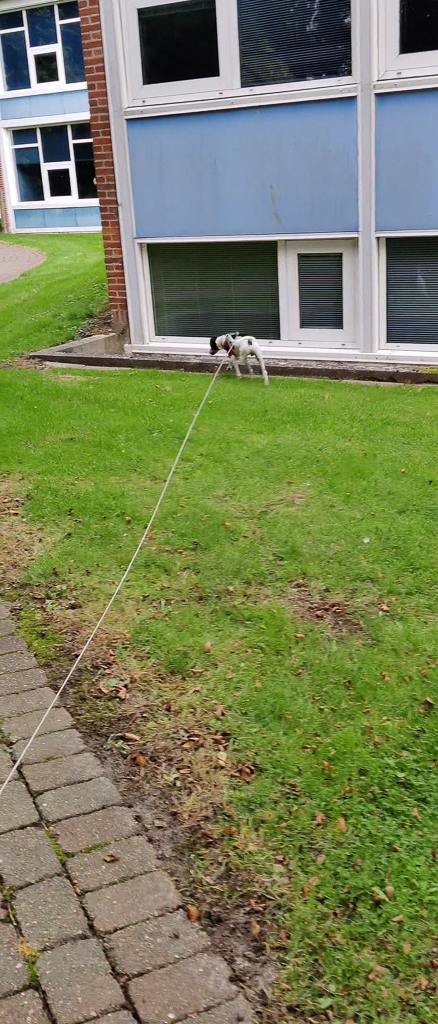Dog: (203, 326, 276, 392)
